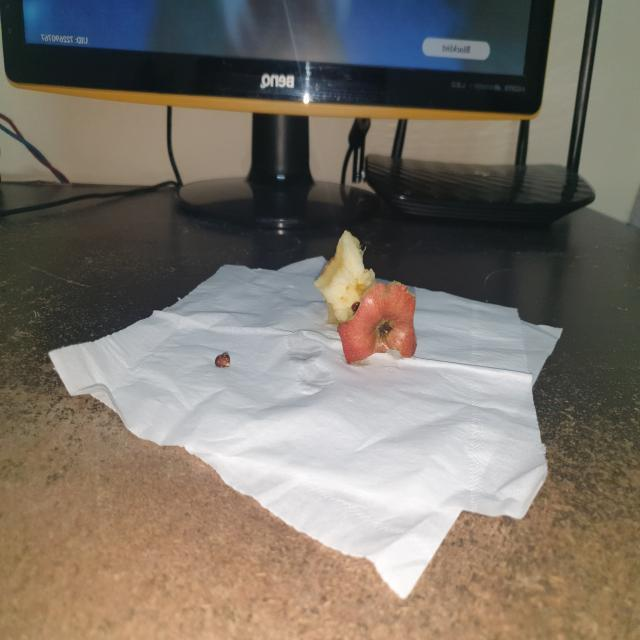apple: (312, 222, 426, 372)
